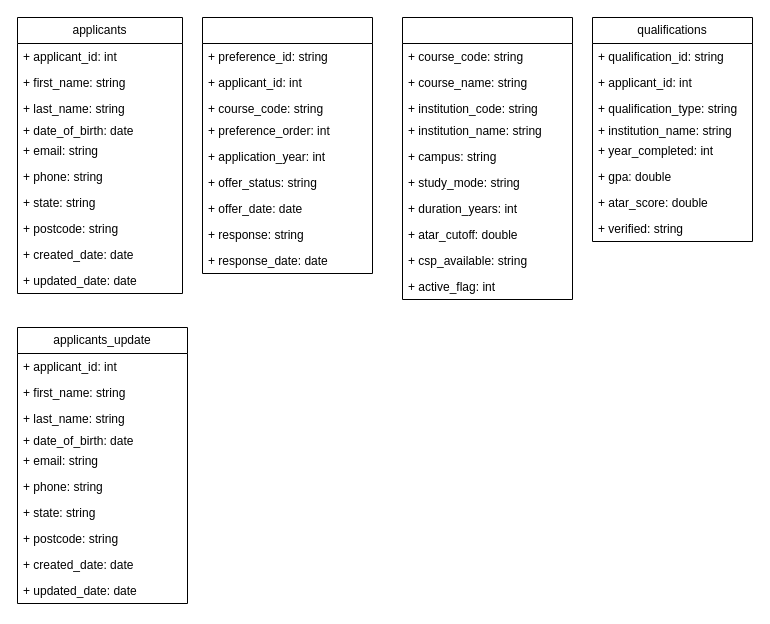
This 770x624 diagram has some shape labels left out. Here are the shapes that lost their labels. From the top down, the box of each, then its label:
(202, 16, 372, 274): preferences
(402, 16, 572, 300): courses
